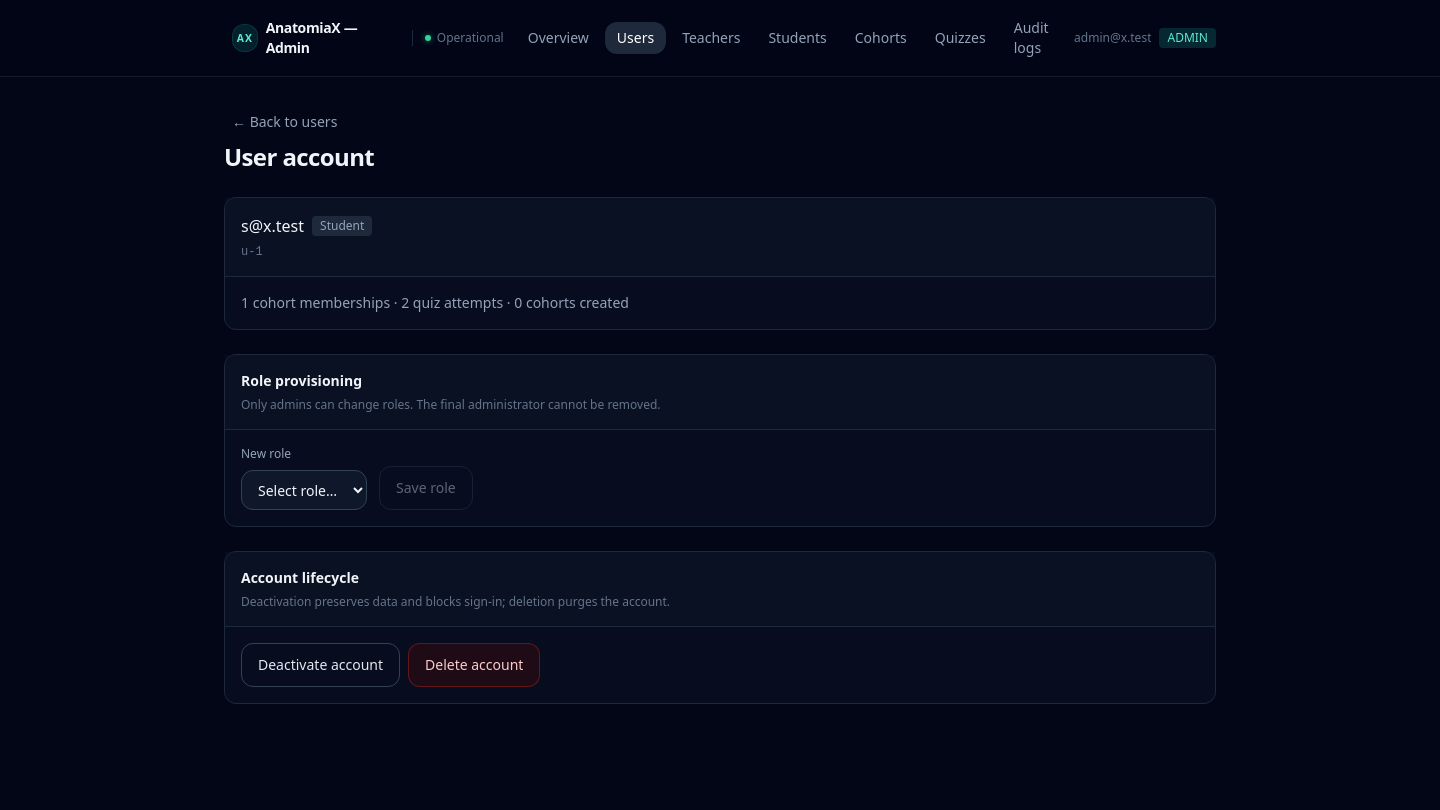
Test: admin user detail › renders safe detail without secrets and saves a role change
Expected: the text with test id "admin-user-email" reads "s@x.test", [241,215,304,237]
Select "TEACHER" in the dropdown with test id "admin-user-role-select" at [304, 490], box [241,470,367,510]
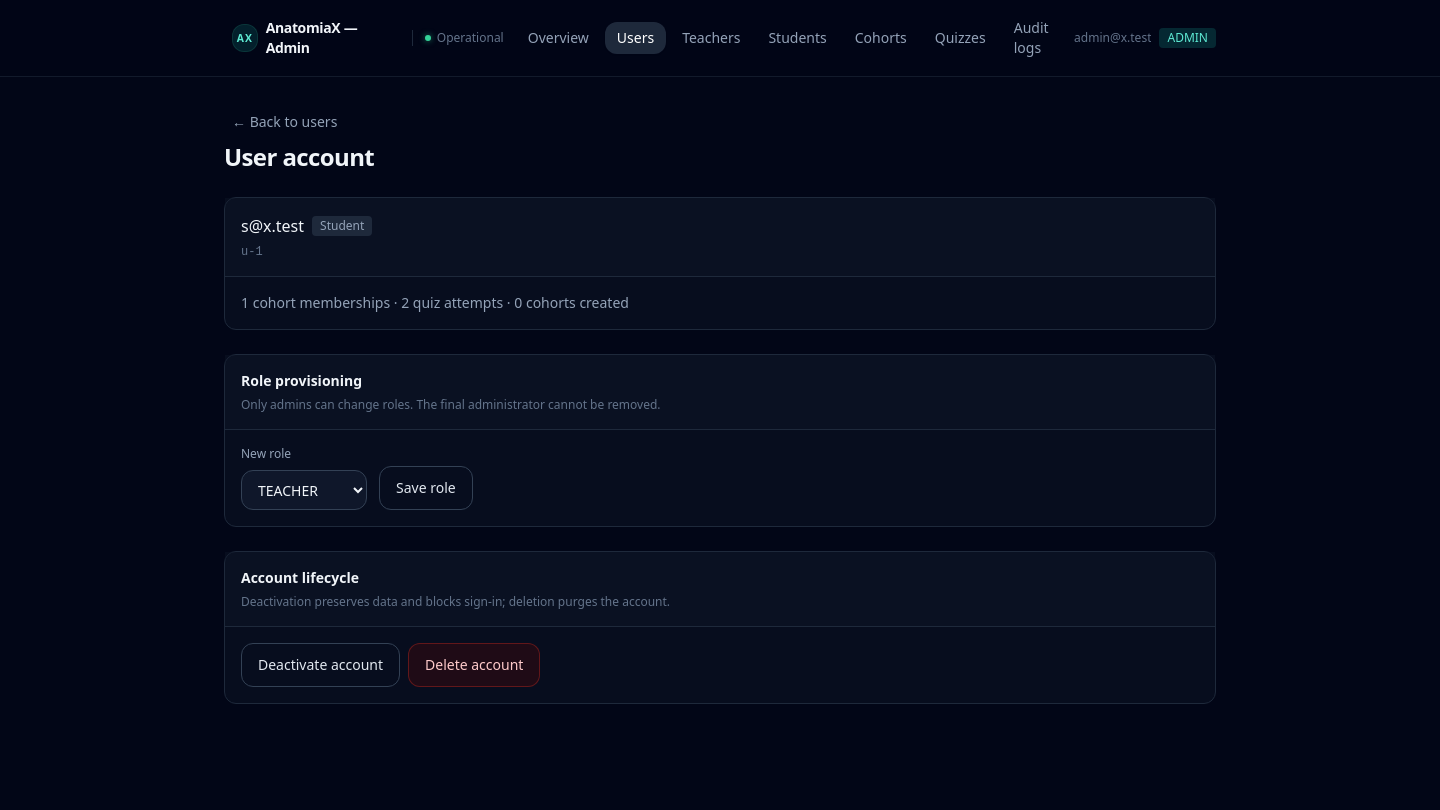
Click the button with test id "admin-user-role-save" at [426, 488], box [379,466,473,510]
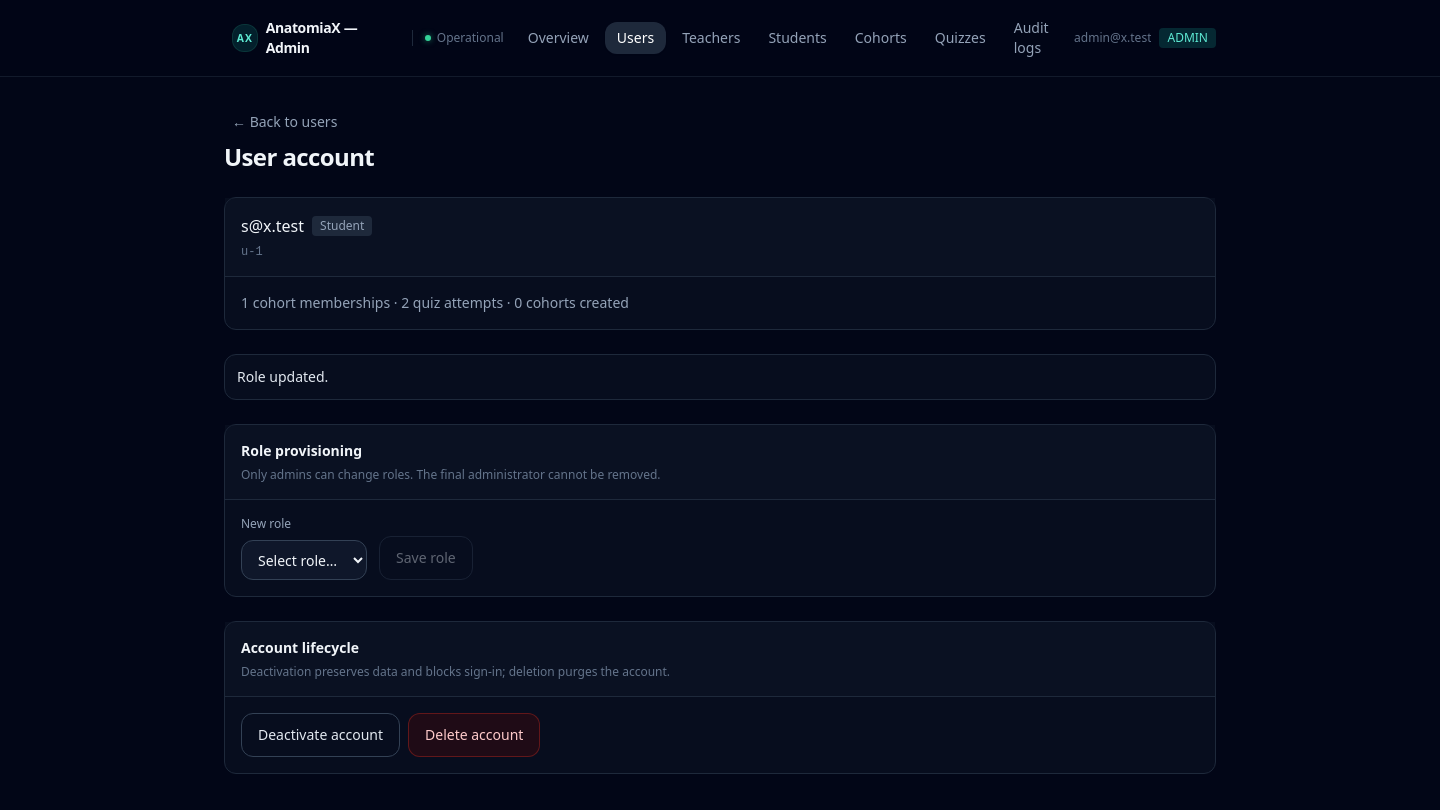
Expected: the message "Role updated." is shown, [224,354,1216,400]
